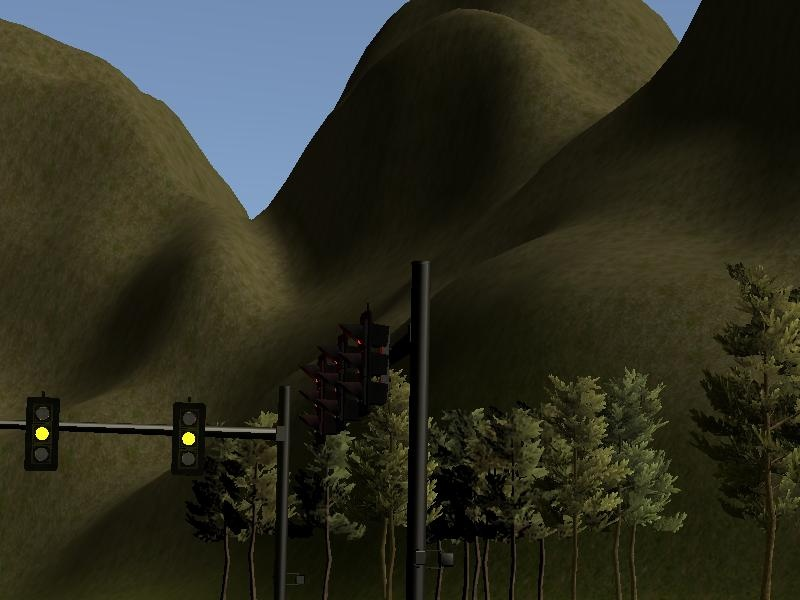YELLOW: (171, 400, 208, 476), (21, 391, 58, 467)
